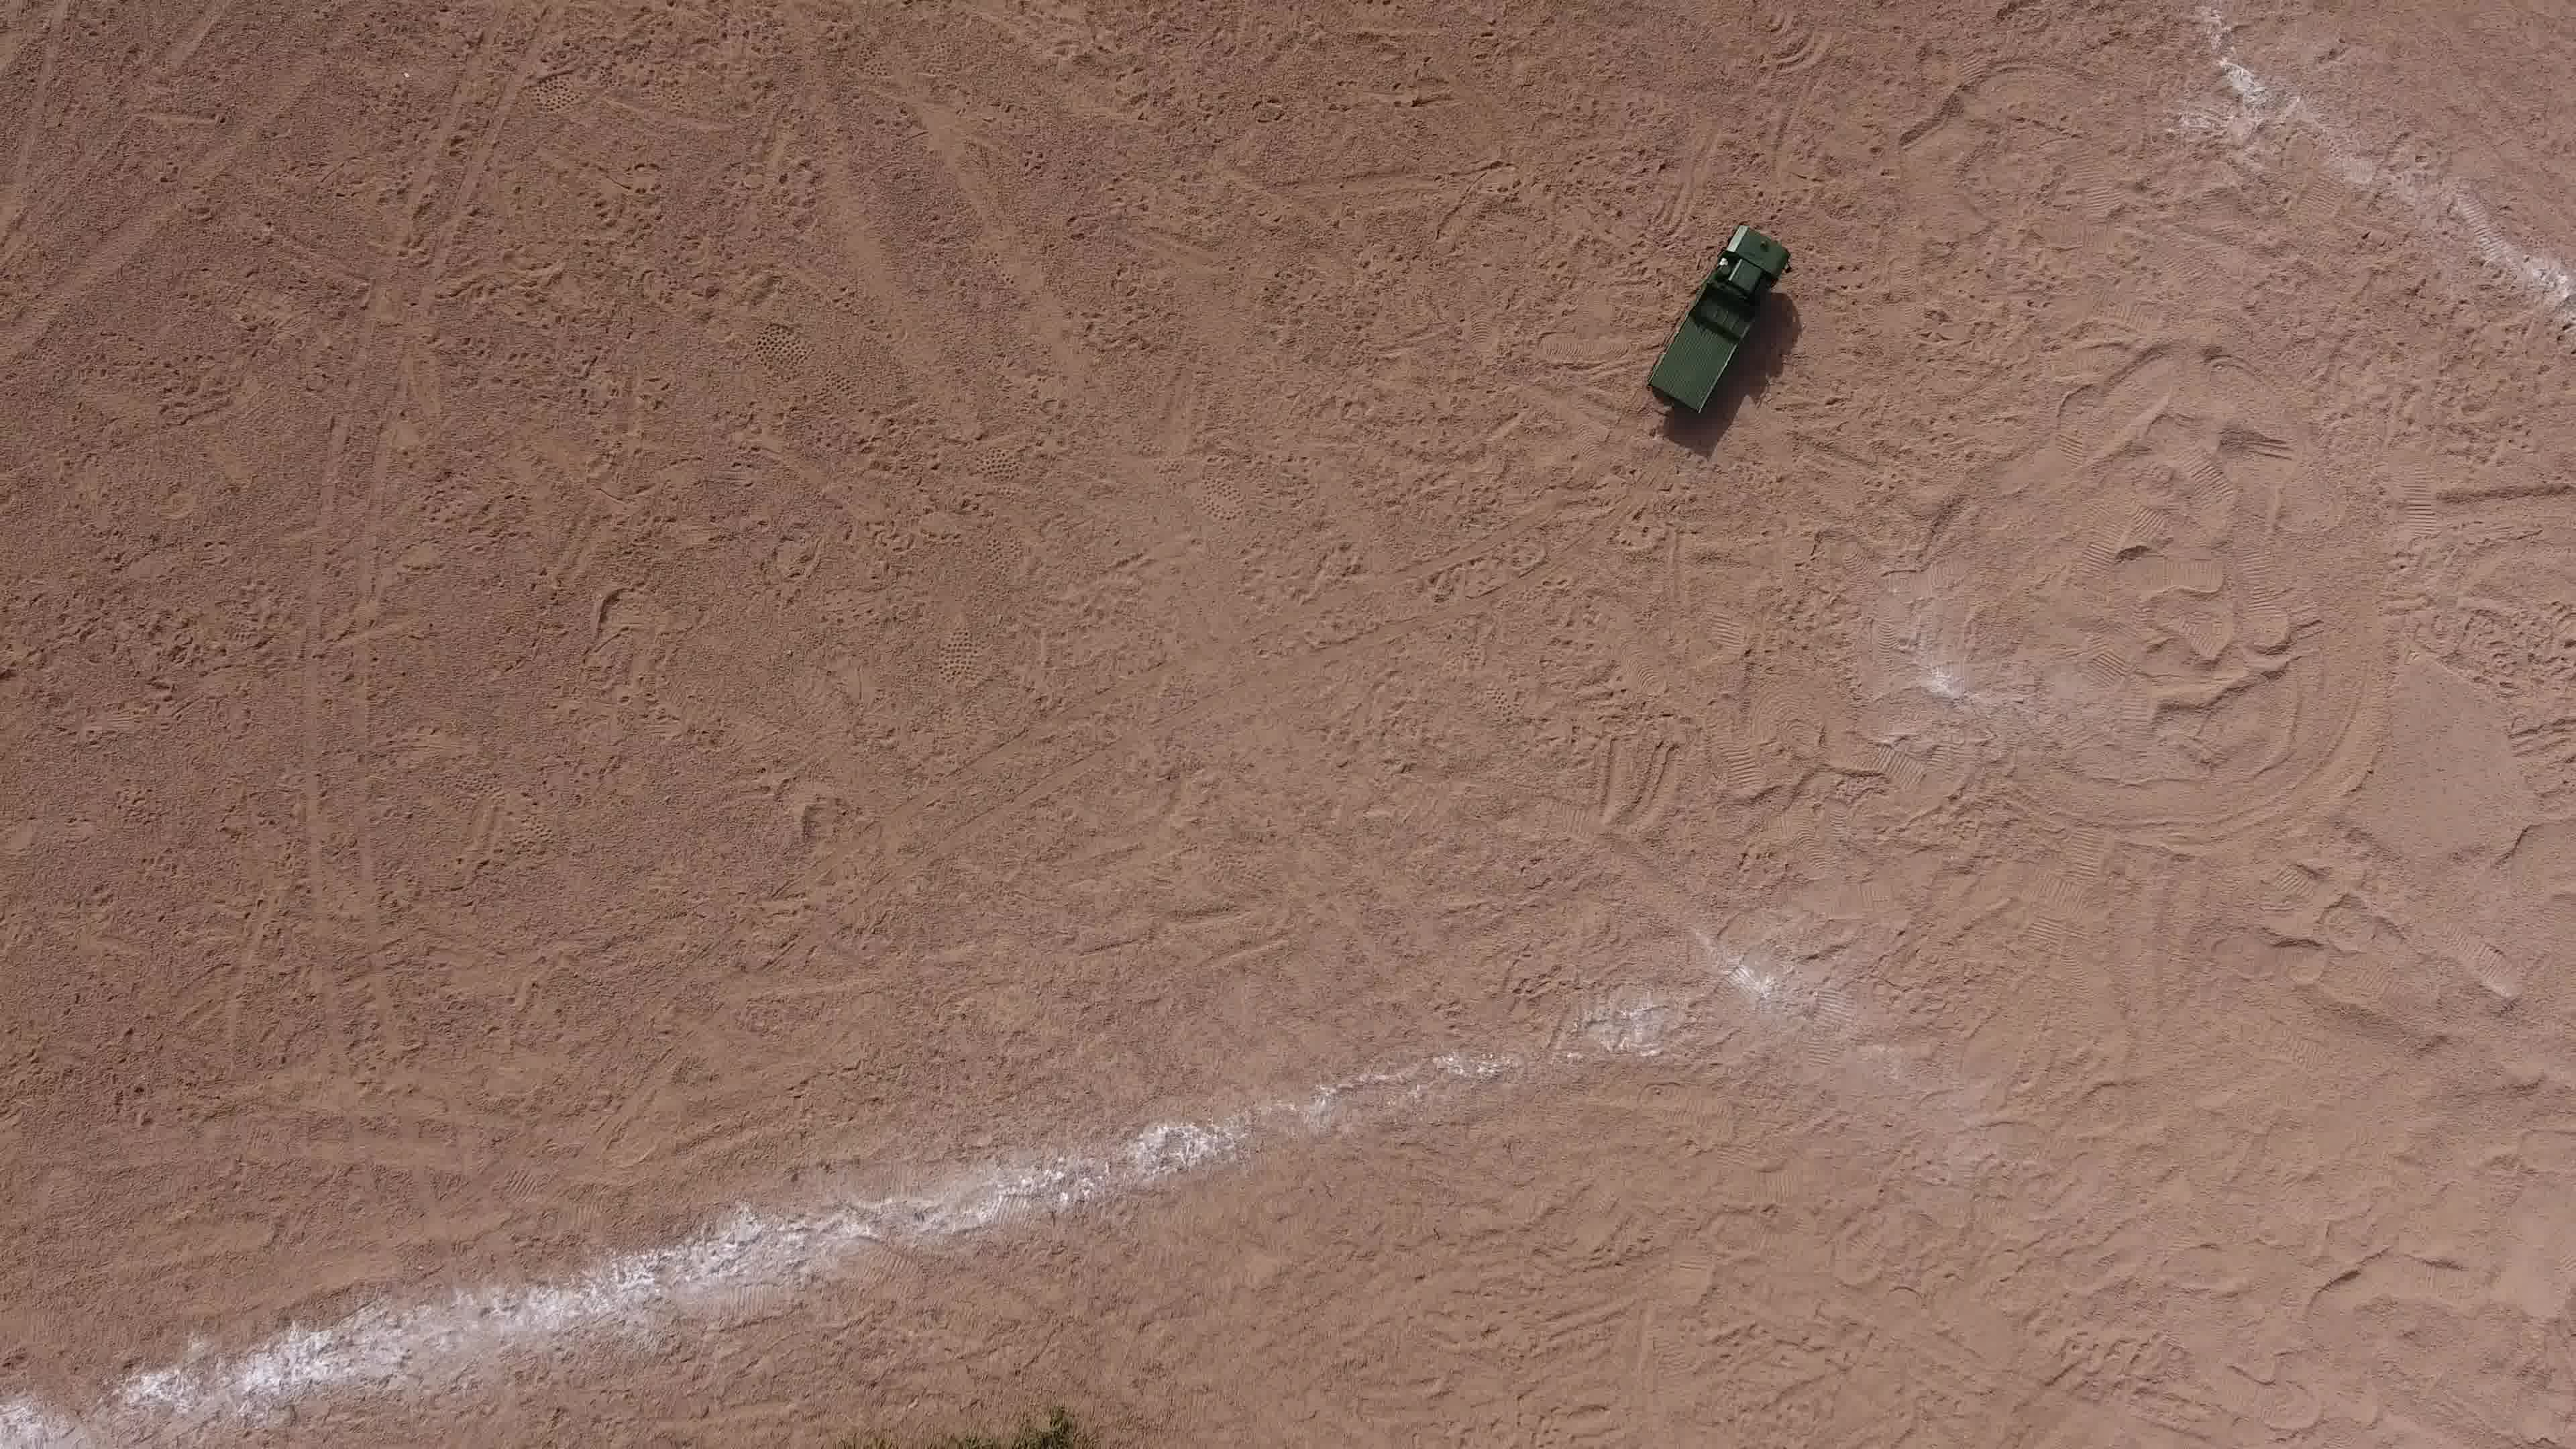transporter9: (1617, 218, 1806, 441)
